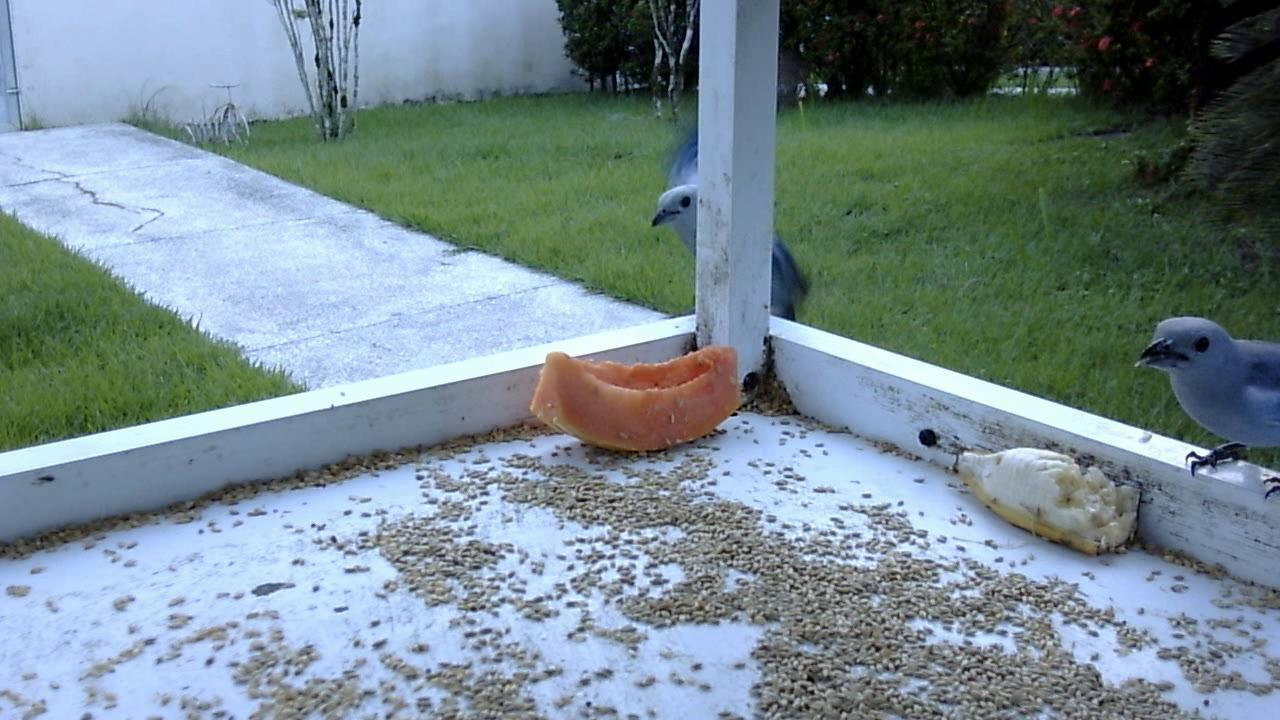sanhaco_da_amazonia: (1128, 311, 1278, 497), (648, 176, 806, 324)
